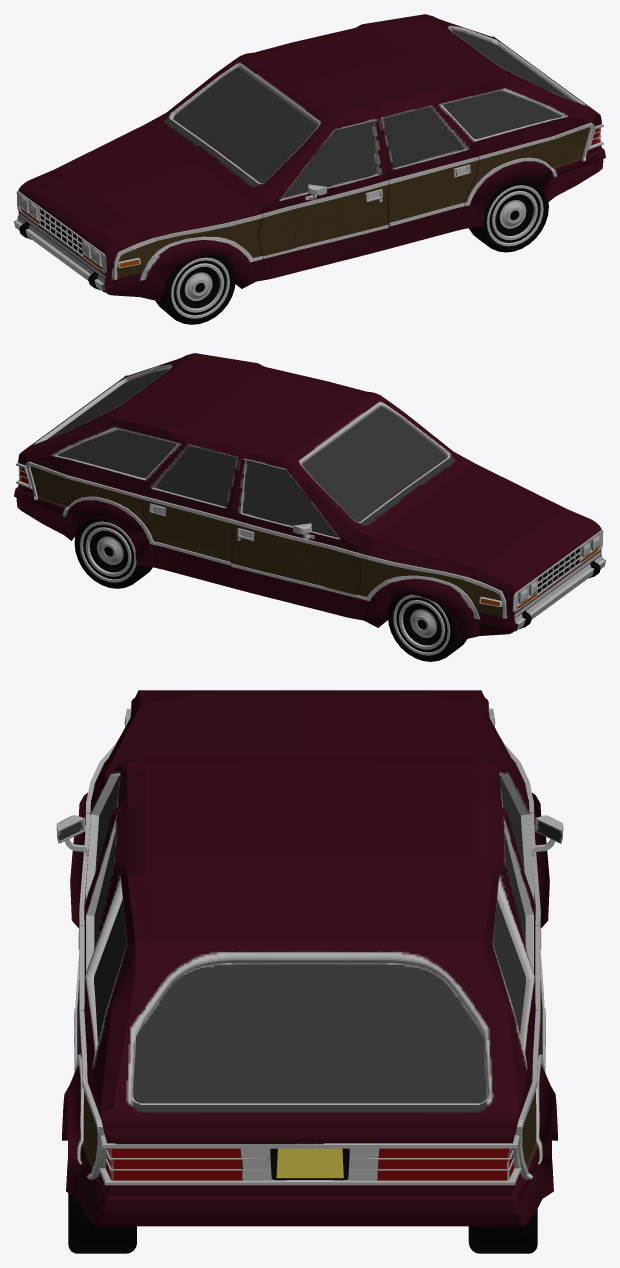
The model's file is Station_Wagon.glb.
The picture shows the model from 3 angles, top to bottom: view 1: azimuth 30°, elevation 25°; view 2: azimuth 150°, elevation 25°; view 3: azimuth 270°, elevation 25°; orthographic projection. The views are drawn at different scales.
Visible parts, largest first — view 1: Circle.004; view 2: Circle.004; view 3: Circle.004.
Boxes of the visible parts, x1,y1,x2,y2 form: Circle.004: (14,14,605,324); Circle.004: (14,353,605,661); Circle.004: (56,690,563,1253).
Size of the model in its own units: 2.11 by 0.6736 by 0.9289.
2 materials, 2 textured.
